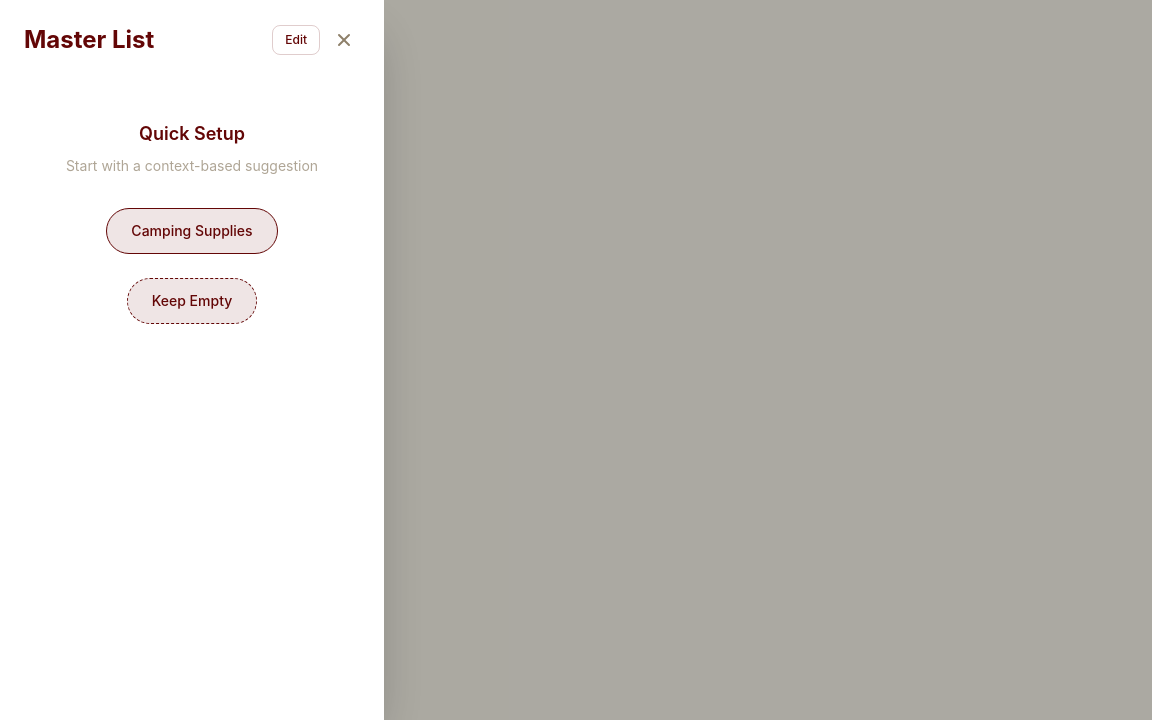
Scenario: BubbleSelector — empty master list (Quick Setup state) › clicking Keep Empty switches to edit mode (shows add input)
The image size is (1152, 720).
Click the button "Keep Empty" at x=192, y=301, box [127,278,257,324]
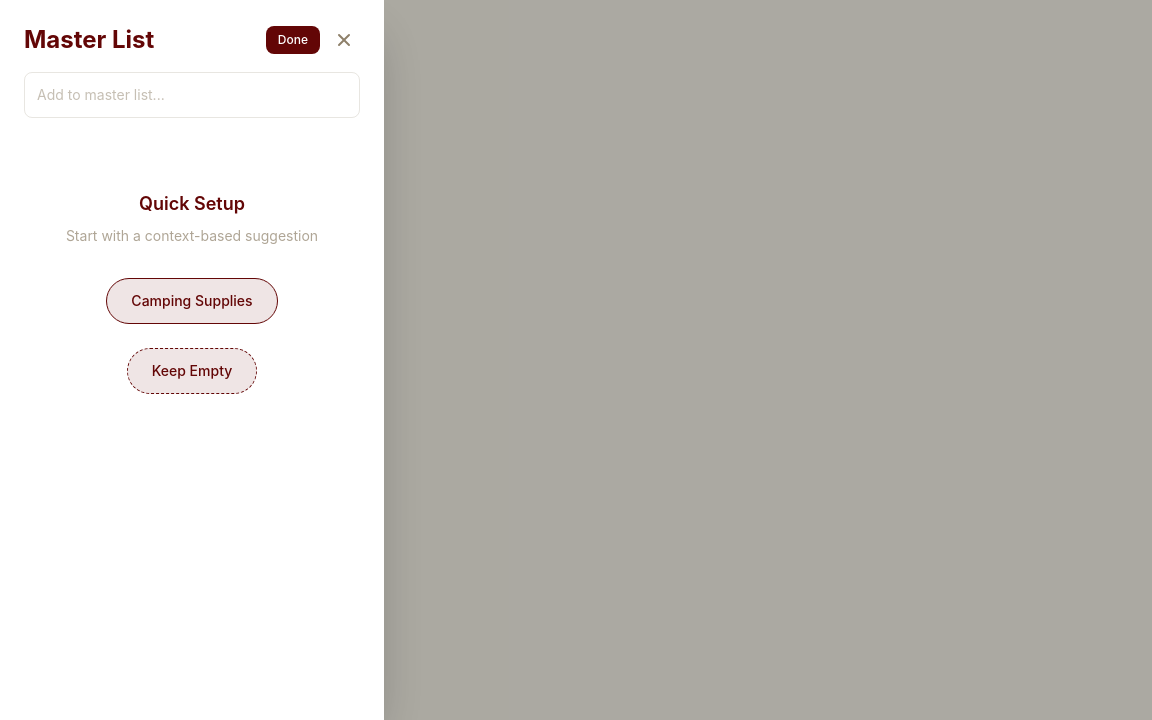
Check: the field with placeholder "Add to master list..." is shown, box [24,72,360,118]
